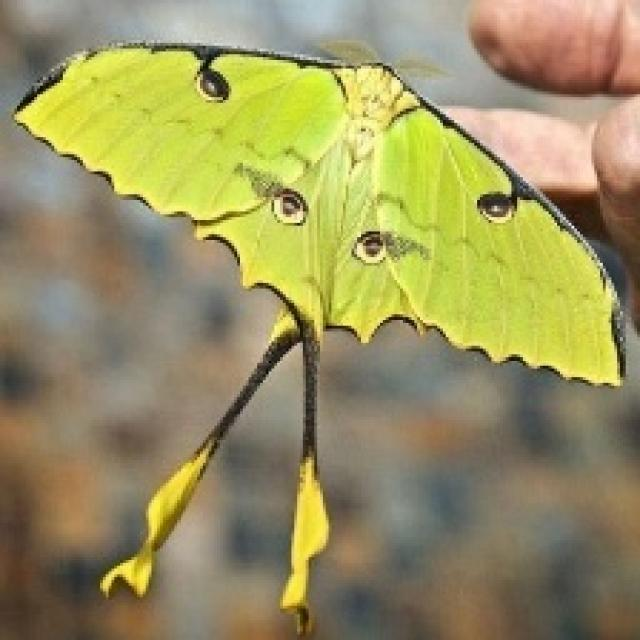butterfly: (11, 34, 626, 637)
